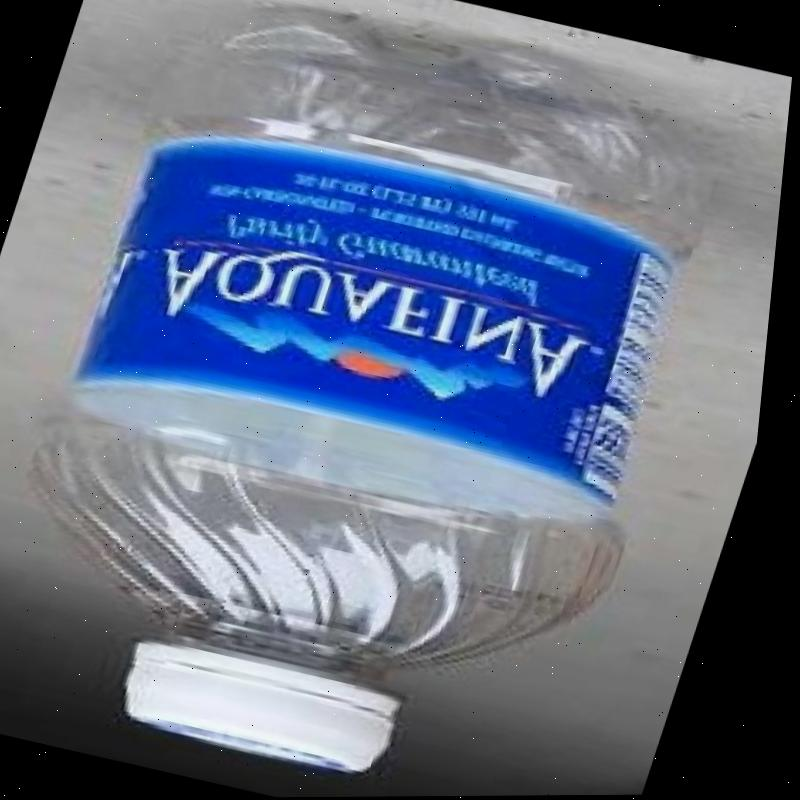botella: (0, 0, 783, 800)
